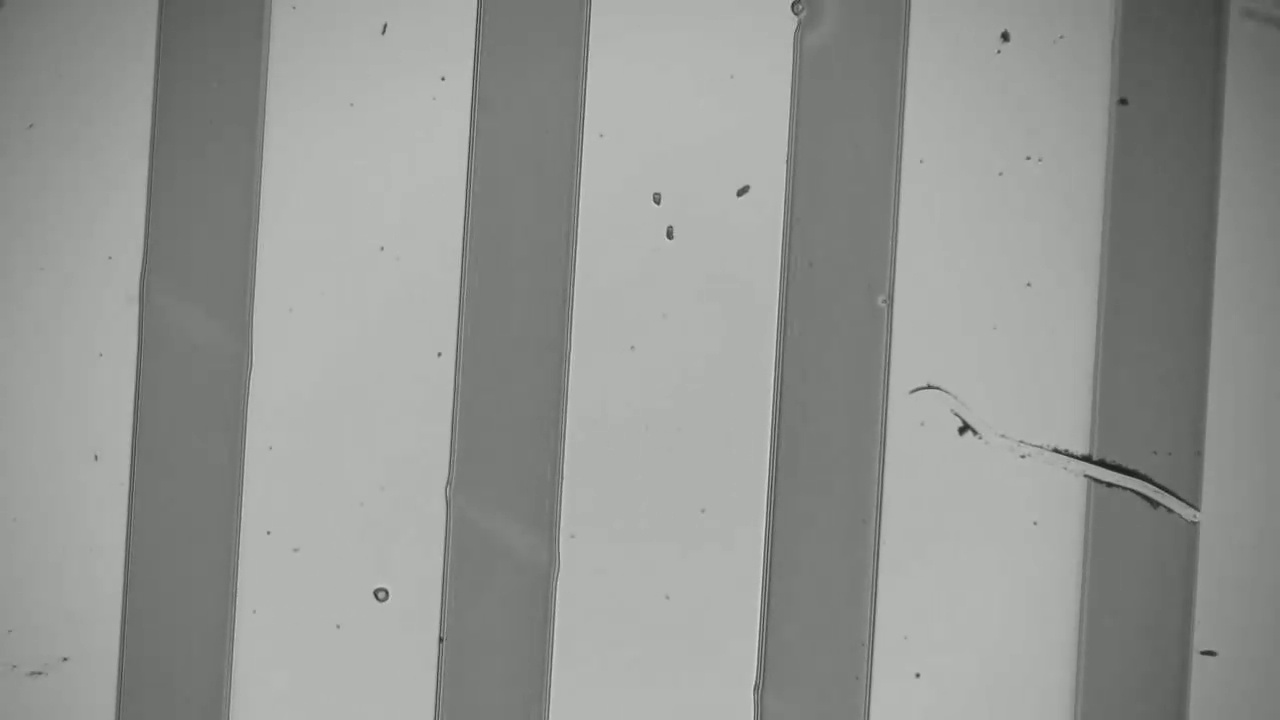Short_circuit: (1057, 438, 1239, 544)
